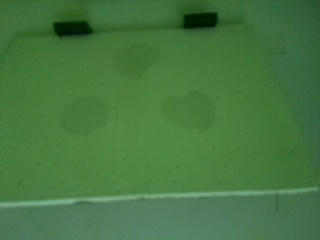Water_detected: (74, 99, 116, 141), (176, 99, 217, 136), (124, 43, 160, 80)
